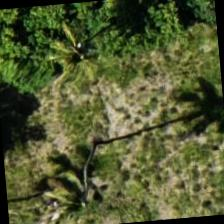Kelapa_Sawit: (37, 5, 135, 103), (54, 102, 152, 200)
